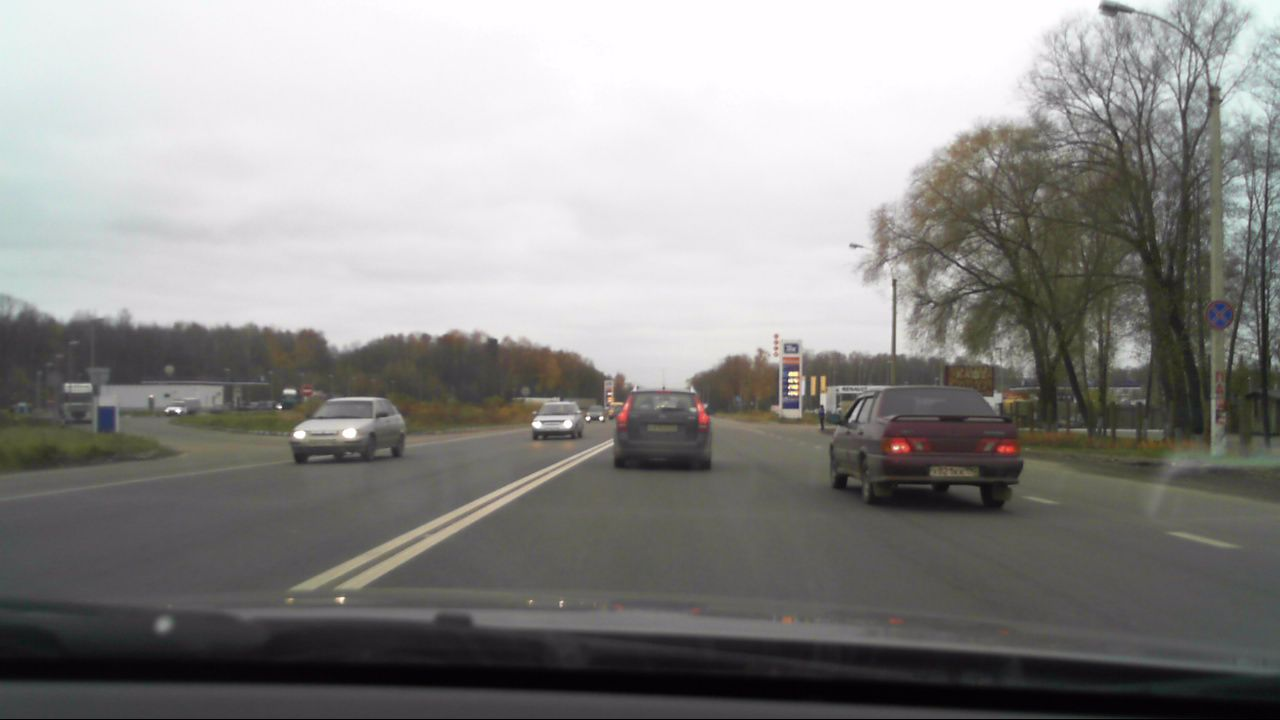No Parking: (1202, 297, 1238, 329)
